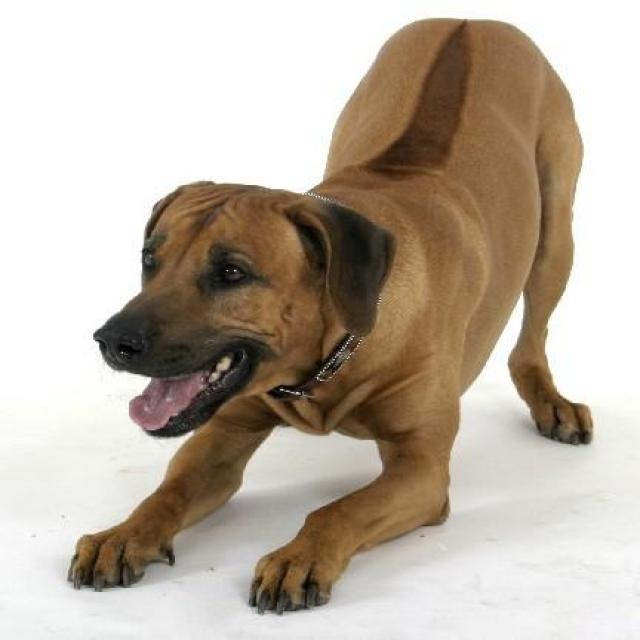rhodesian_ridgeback: (64, 14, 596, 618)
